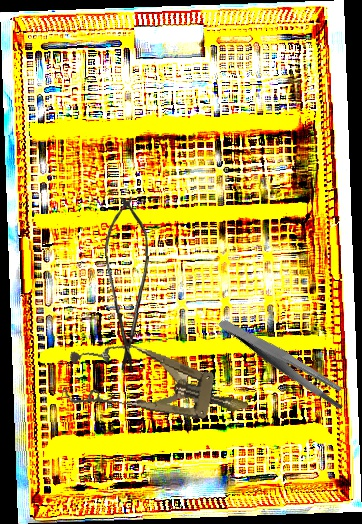Dressing Forceps: (217, 291, 352, 433)
Micro Scissor: (104, 192, 151, 377)
Speculum: (60, 333, 255, 441)
